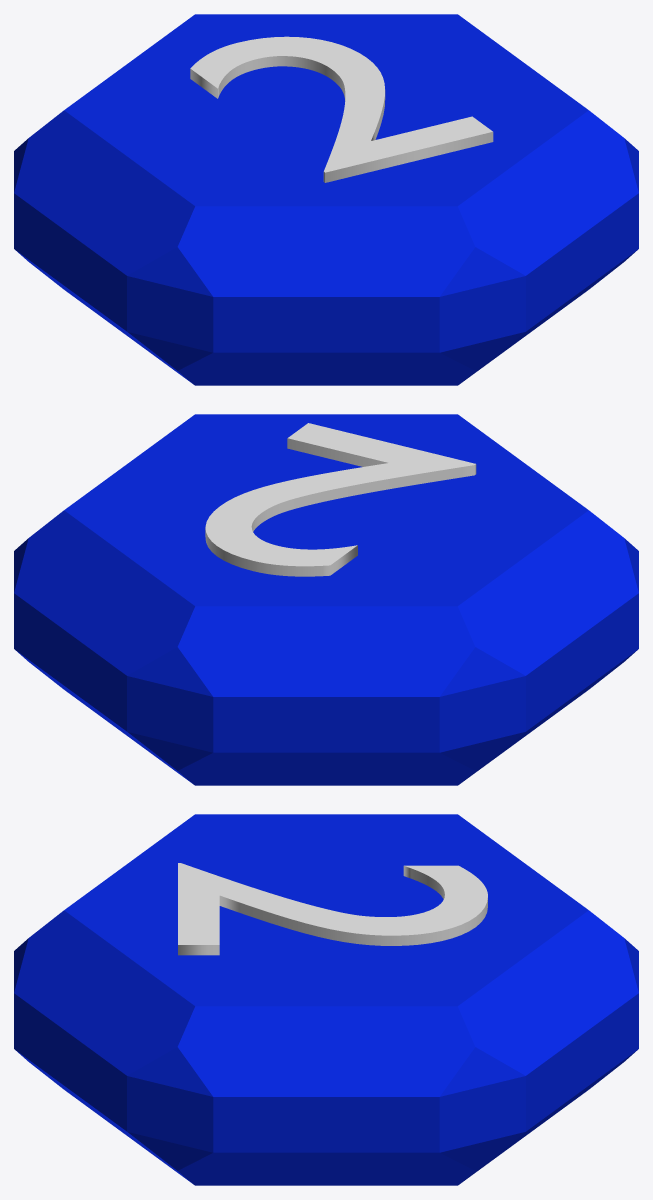
File: 2宝石色.fbx
3 renders of one model, top to bottom at view 1: azimuth 30°, elevation 25°; view 2: azimuth 150°, elevation 25°; view 3: azimuth 270°, elevation 25°, orthographic.
Parts seen in each view (by area): view 1: Circle, Text; view 2: Circle, Text; view 3: Circle, Text.
Part boxes in pixels (<box>): Circle: <box>14,14,638,385</box>; Text: <box>190,36,493,182</box>; Circle: <box>14,414,638,785</box>; Text: <box>205,423,476,576</box>; Circle: <box>14,814,638,1185</box>; Text: <box>178,863,487,955</box>.
Bounding box in the file's own units: 173 × 64.3 × 183.
